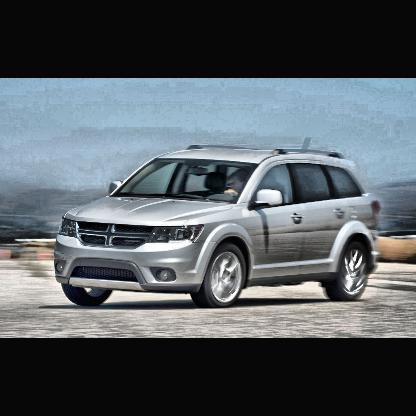Dodge Journey SUV 2012: (53, 147, 386, 306)
